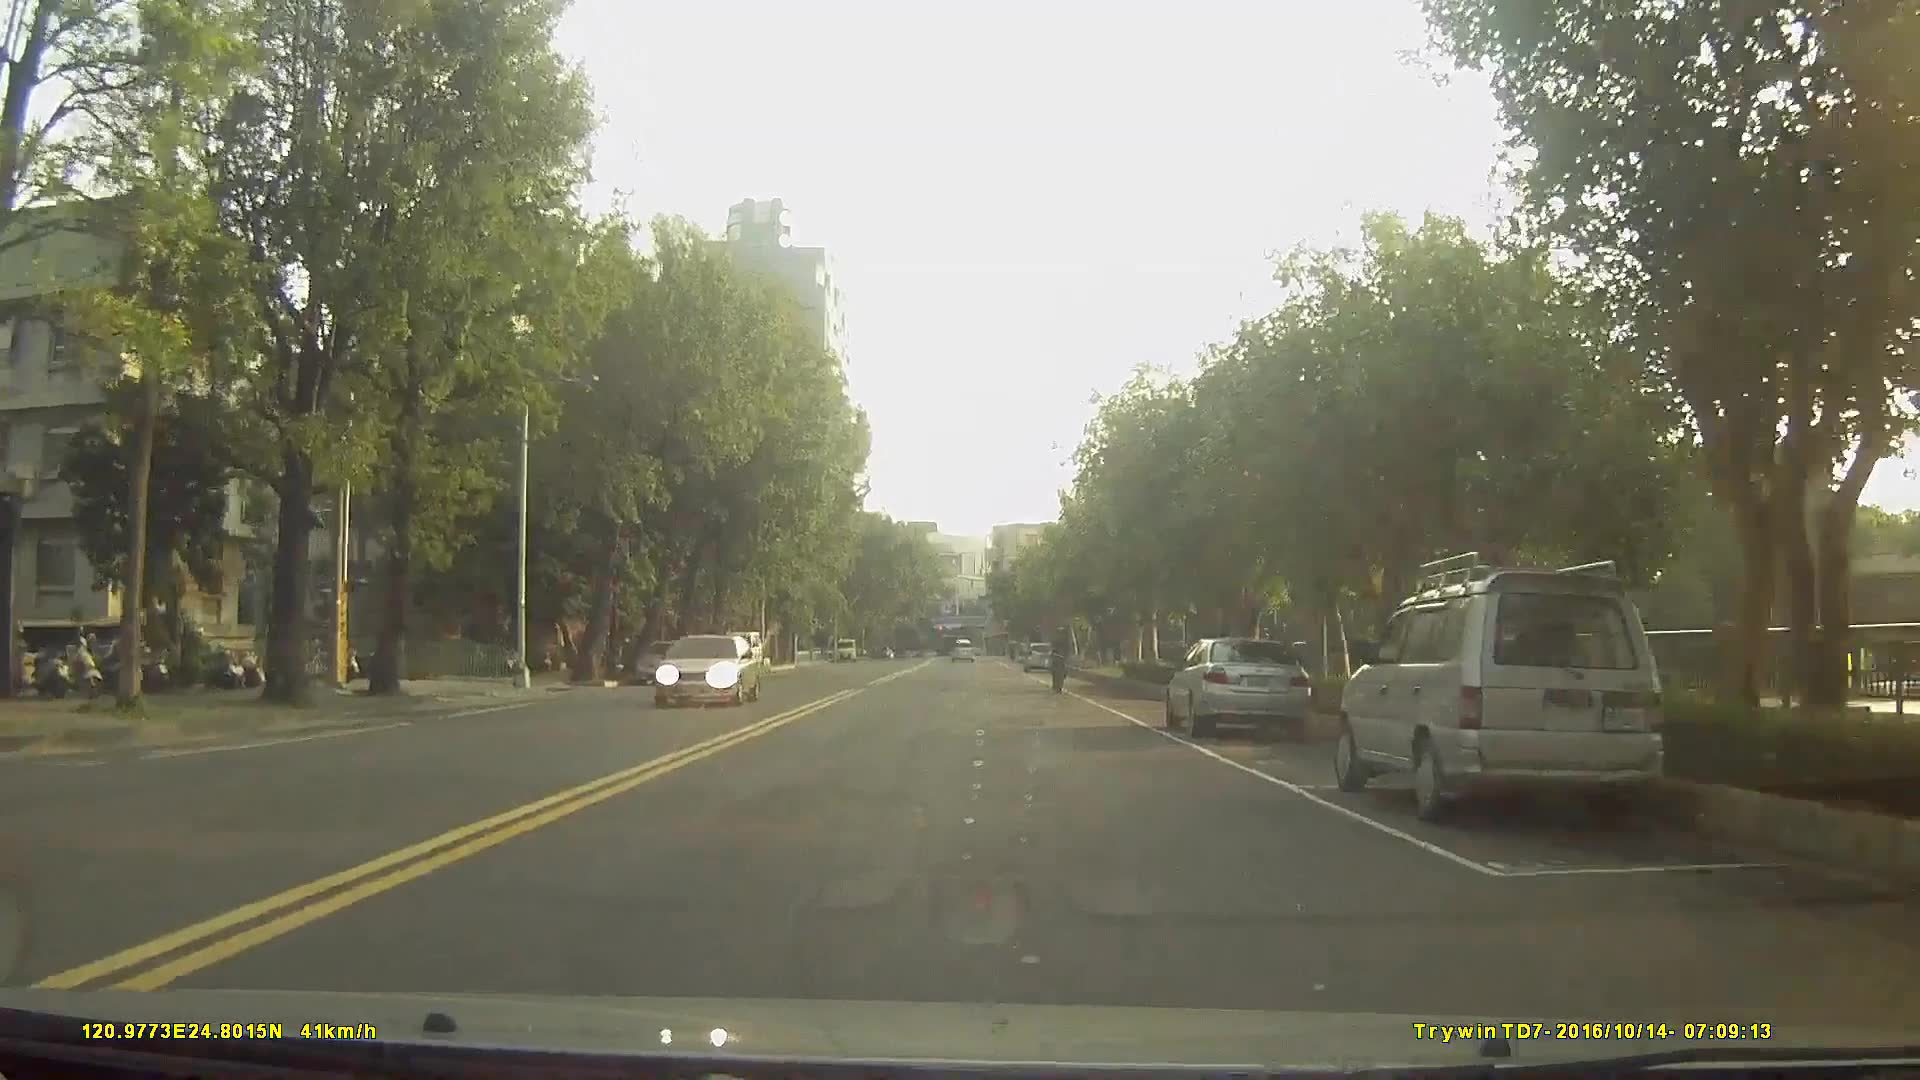rider: (1050, 622, 1074, 699)
vehicle: (1331, 565, 1671, 831), (1165, 633, 1312, 742), (648, 632, 762, 707), (631, 637, 697, 685), (714, 632, 763, 678), (1021, 639, 1056, 673), (948, 636, 976, 664)
